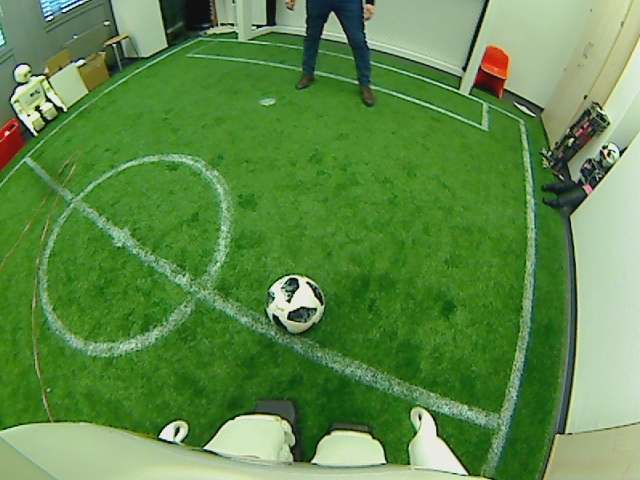ball: (263, 273, 328, 336)
